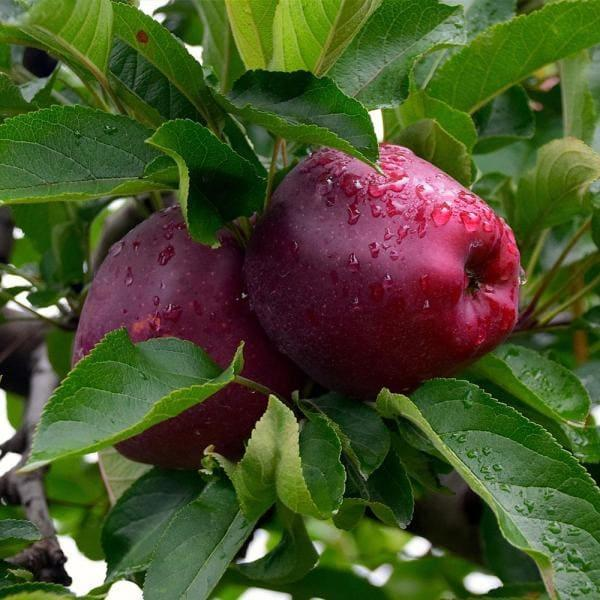apple: (239, 144, 525, 407), (73, 207, 305, 471)
